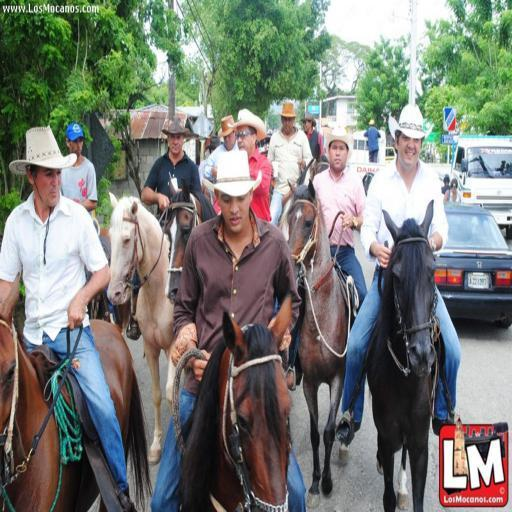horse: (0, 273, 152, 511), (171, 289, 295, 511), (278, 178, 356, 510), (360, 198, 440, 512), (105, 192, 177, 465), (163, 178, 218, 298)
